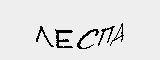Д: (108, 22, 127, 48)
Е: (54, 28, 72, 51)
Л: (32, 24, 51, 47)
П: (97, 24, 114, 46)
С: (78, 26, 98, 49)
